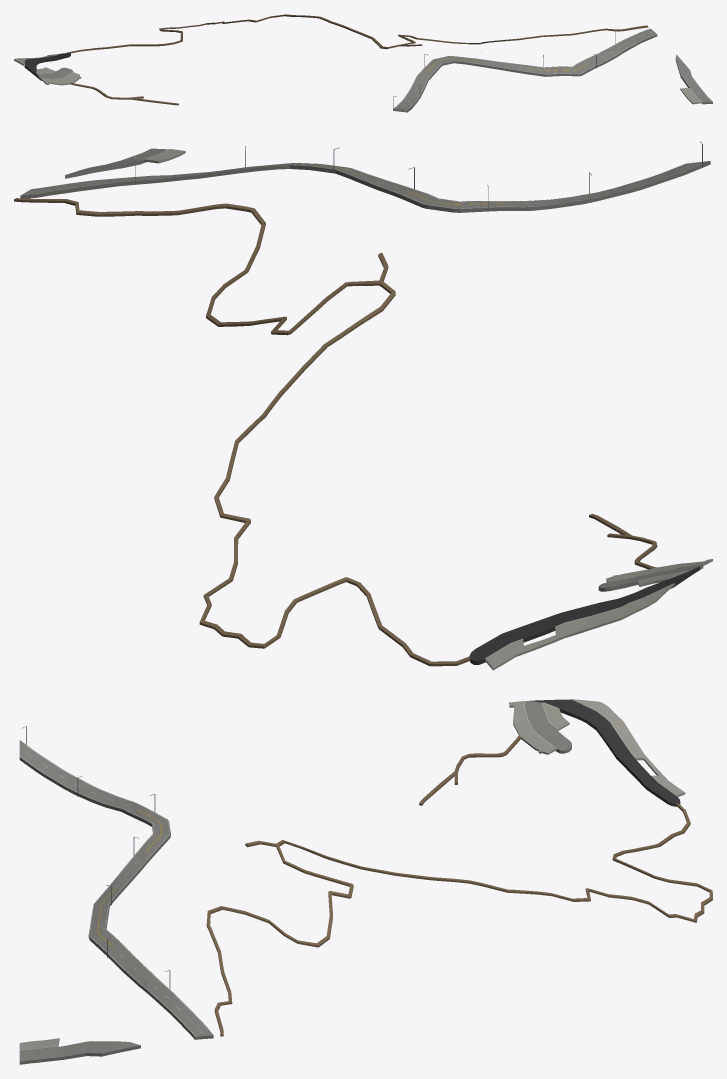
File: 17-109439-59489.7bea933f.glb
3 renders of one model, top to bottom at view 1: azimuth 30°, elevation 25°; view 2: azimuth 150°, elevation 25°; view 3: azimuth 270°, elevation 25°, orthographic. The views are drawn at different scales.
Size of the model in its own units: 295 by 64.47 by 250.
